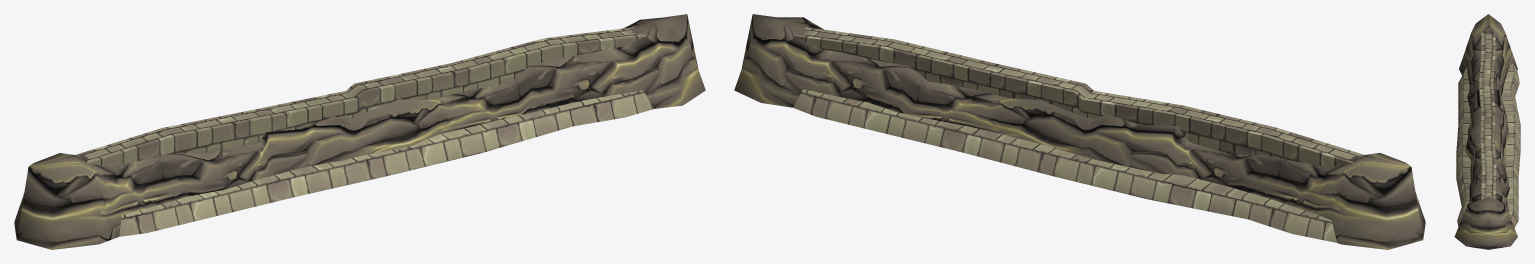
File: Wall_TileEdge_Full_01.FBX
3 views of the same model, side by side, from view 1: azimuth 30°, elevation 25°; view 2: azimuth 150°, elevation 25°; view 3: azimuth 270°, elevation 25° (orthographic). The views are drawn at different scales.
Visible parts, largest first — view 1: Wall_TileEdge_Full_01; view 2: Wall_TileEdge_Full_01; view 3: Wall_TileEdge_Full_01.
Boxes of the visible parts, left/top/right/bottom form: Wall_TileEdge_Full_01: left=14, top=14, right=705, bottom=249; Wall_TileEdge_Full_01: left=734, top=14, right=1425, bottom=249; Wall_TileEdge_Full_01: left=1454, top=14, right=1520, bottom=249.
Bounding box in the file's own units: 20.88 × 2.07 × 2.95.
